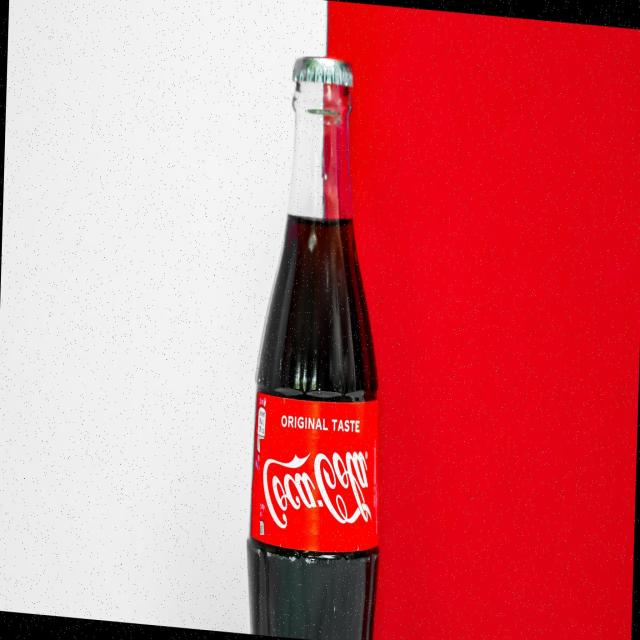coca-cola: (260, 439, 376, 535)
